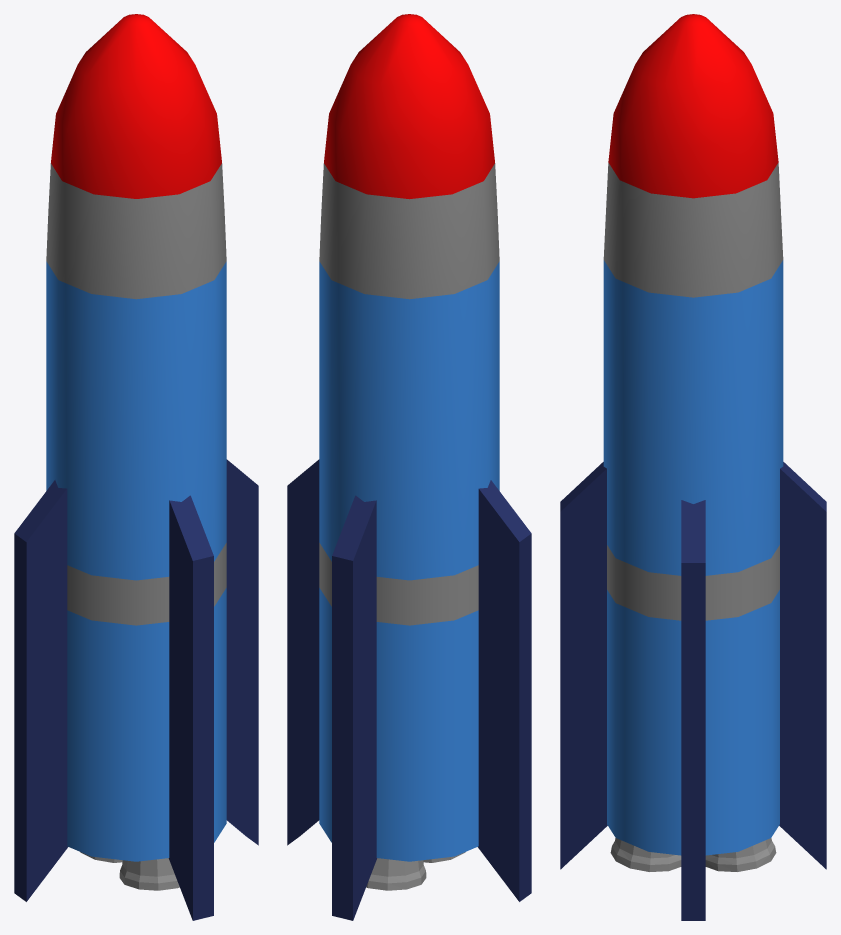
Rendered from daodan3.FBX.
The picture shows the model from 3 angles, left to right: view 1: azimuth 30°, elevation 25°; view 2: azimuth 150°, elevation 25°; view 3: azimuth 270°, elevation 25°; orthographic projection.
Visible parts, largest first — view 1: daodan; view 2: daodan; view 3: daodan.
Boxes of the visible parts, x1,y1,x2,y2 form: daodan: (14, 14, 258, 920); daodan: (287, 14, 531, 920); daodan: (560, 14, 826, 920).
Bounding box in the file's own units: 4.84 × 16.98 × 4.83.
